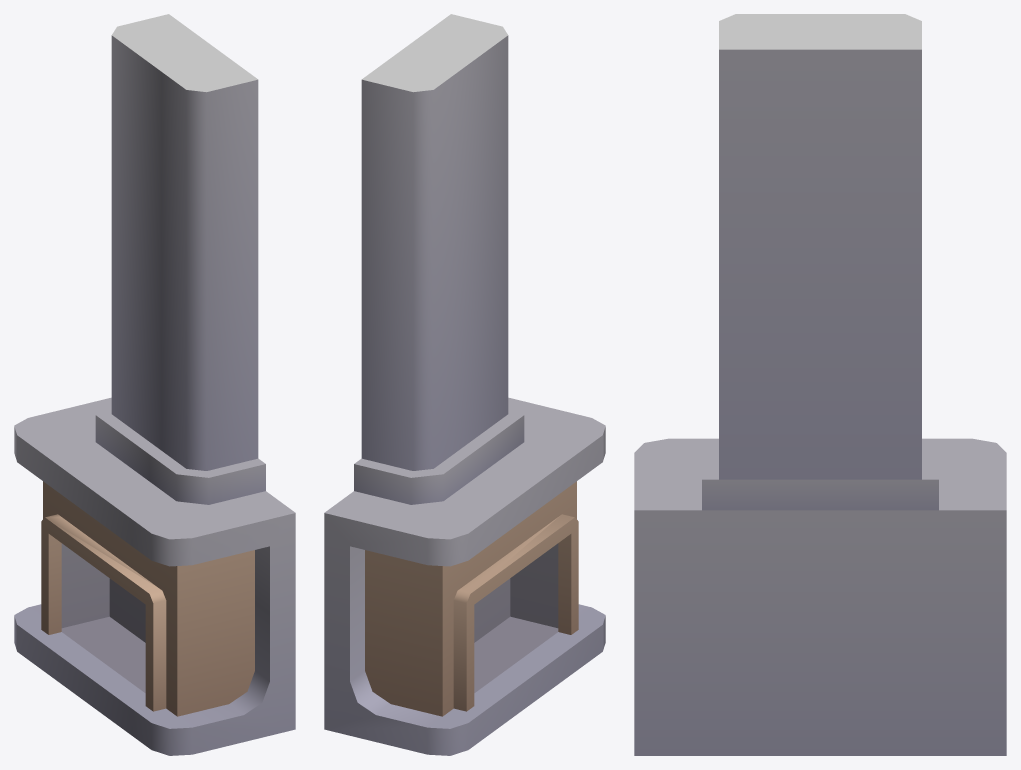
The model's file is fireplace-classic-narrow.glb.
The picture shows the model from 3 angles, left to right: view 1: azimuth 30°, elevation 25°; view 2: azimuth 150°, elevation 25°; view 3: azimuth 270°, elevation 25°; orthographic projection. The views are drawn at different scales.
Parts seen in each view (by area): view 1: fireplace-classic-narrow; view 2: fireplace-classic-narrow; view 3: fireplace-classic-narrow.
Part boxes in pixels (box(x1,y1,x2,y2)): fireplace-classic-narrow: box(14, 14, 295, 755); fireplace-classic-narrow: box(324, 14, 605, 755); fireplace-classic-narrow: box(634, 14, 1006, 755).
Size of the model in its own units: 0.5 by 2.3 by 1.1.
